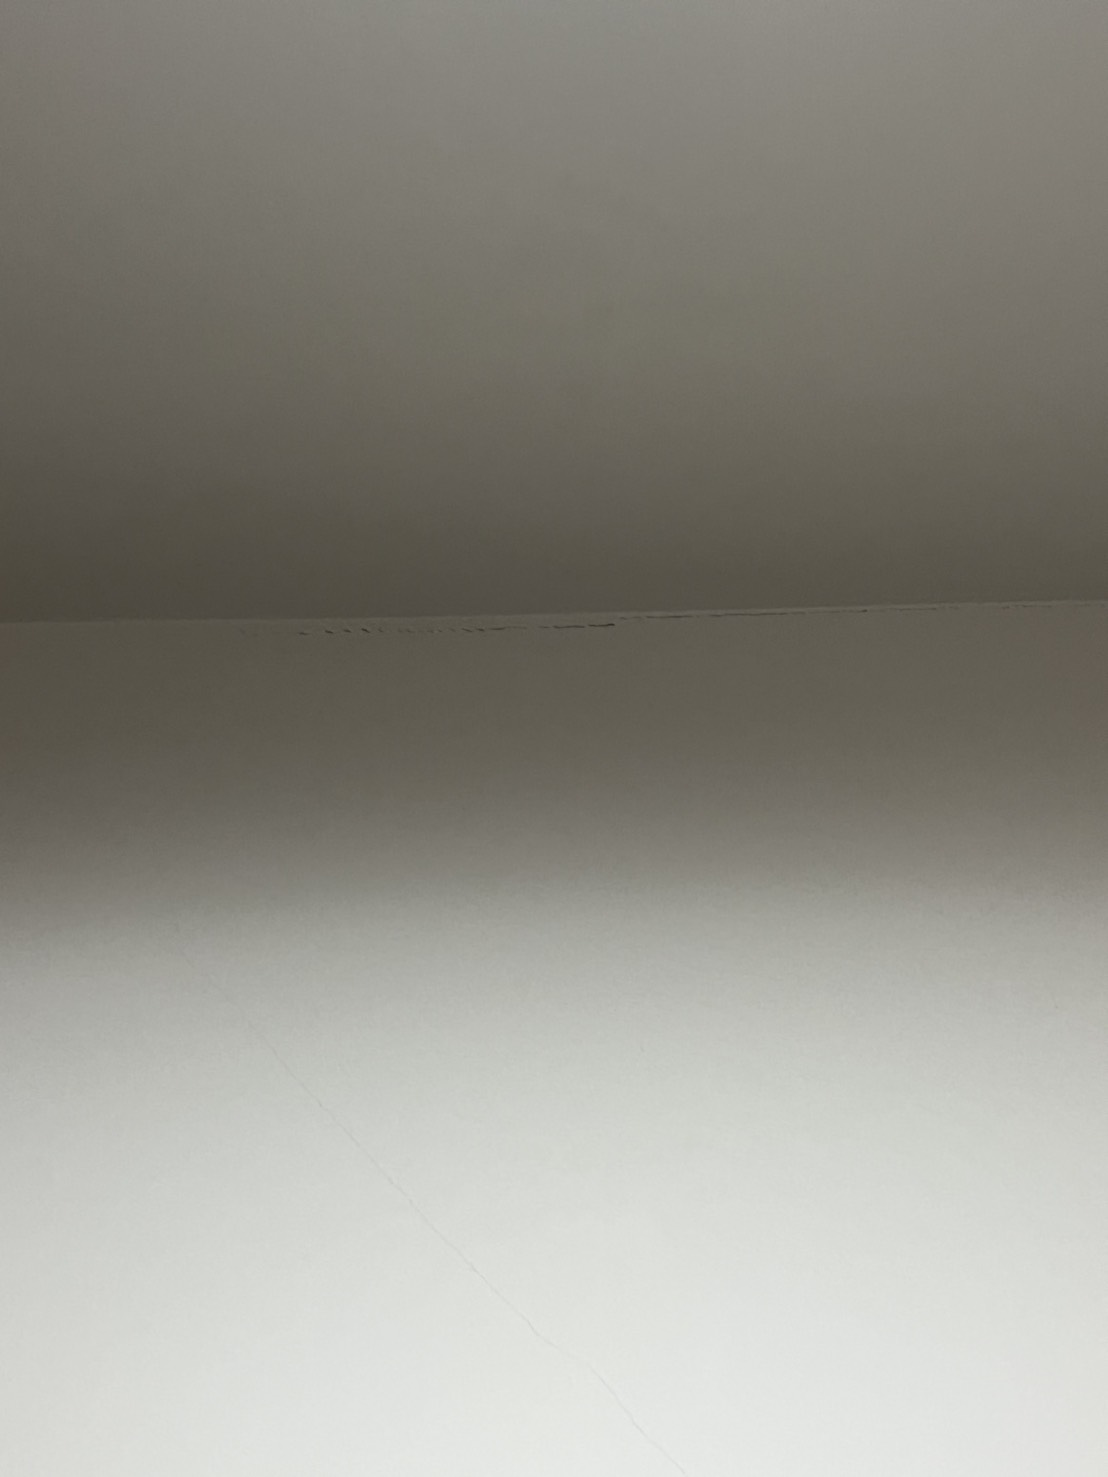Low: (169, 587, 1070, 668)
